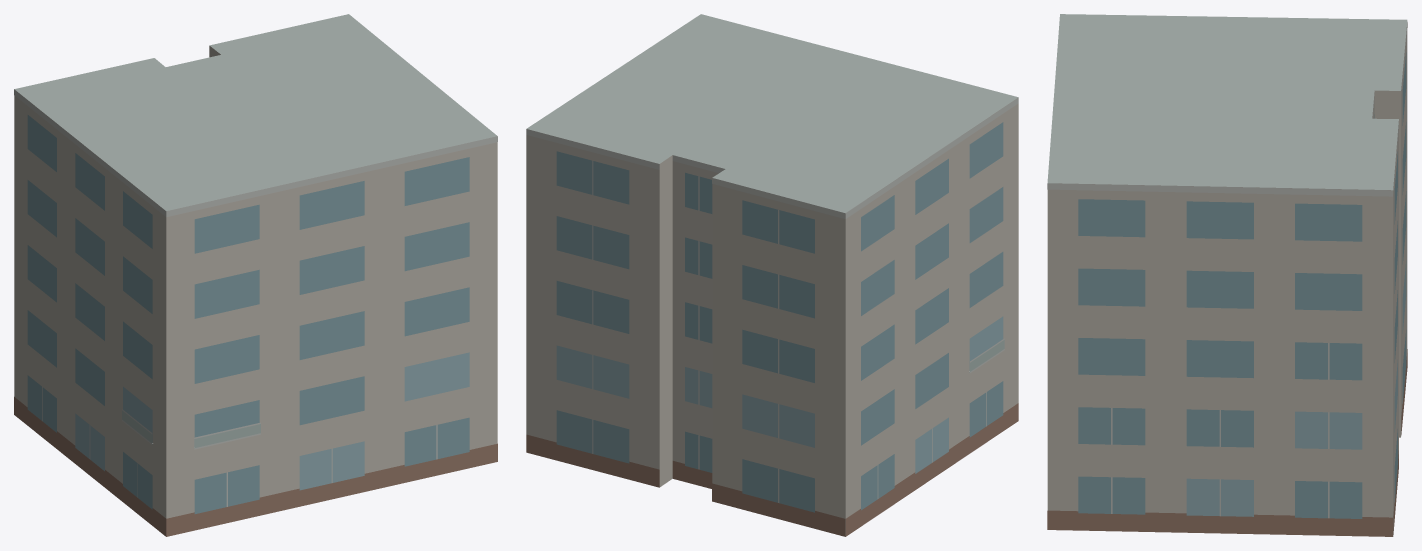
File: survey-upis-32653434.glb
The picture shows the model from 3 angles, left to right: view 1: azimuth 30°, elevation 25°; view 2: azimuth 150°, elevation 25°; view 3: azimuth 270°, elevation 25°; orthographic projection. The views are drawn at different scales.
Parts seen in each view (by area): view 1: survey-upis-32653434.tmp; view 2: survey-upis-32653434.tmp; view 3: survey-upis-32653434.tmp.
Part boxes in pixels (bbox=[...]): survey-upis-32653434.tmp: bbox=[14, 14, 497, 536]; survey-upis-32653434.tmp: bbox=[526, 14, 1018, 536]; survey-upis-32653434.tmp: bbox=[1047, 14, 1407, 536].
Size of the model in its own units: 14.39 by 13.2 by 12.43.
